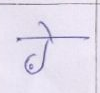e_matra: (38, 21, 56, 36)
